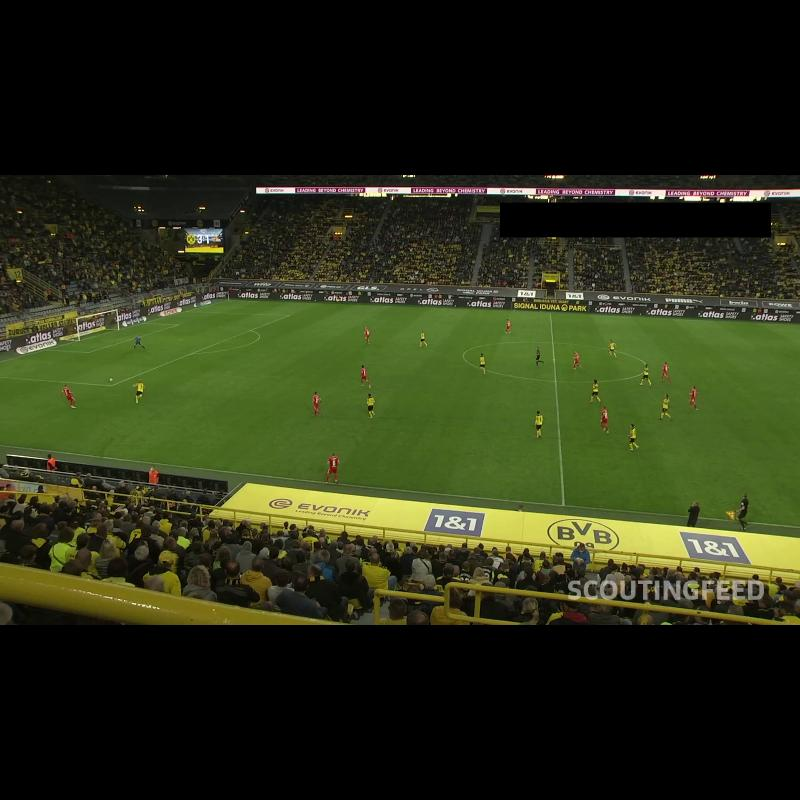cross_recipient_zone: (0, 311, 288, 385)
crossing_player_zone: (0, 378, 209, 457), (186, 300, 372, 317), (740, 324, 800, 341)
pitch: (0, 300, 800, 528)
